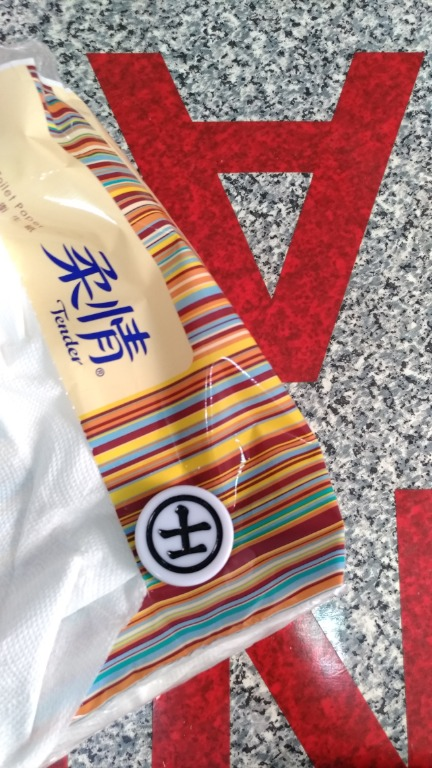b-advisor: (113, 468, 263, 606)
